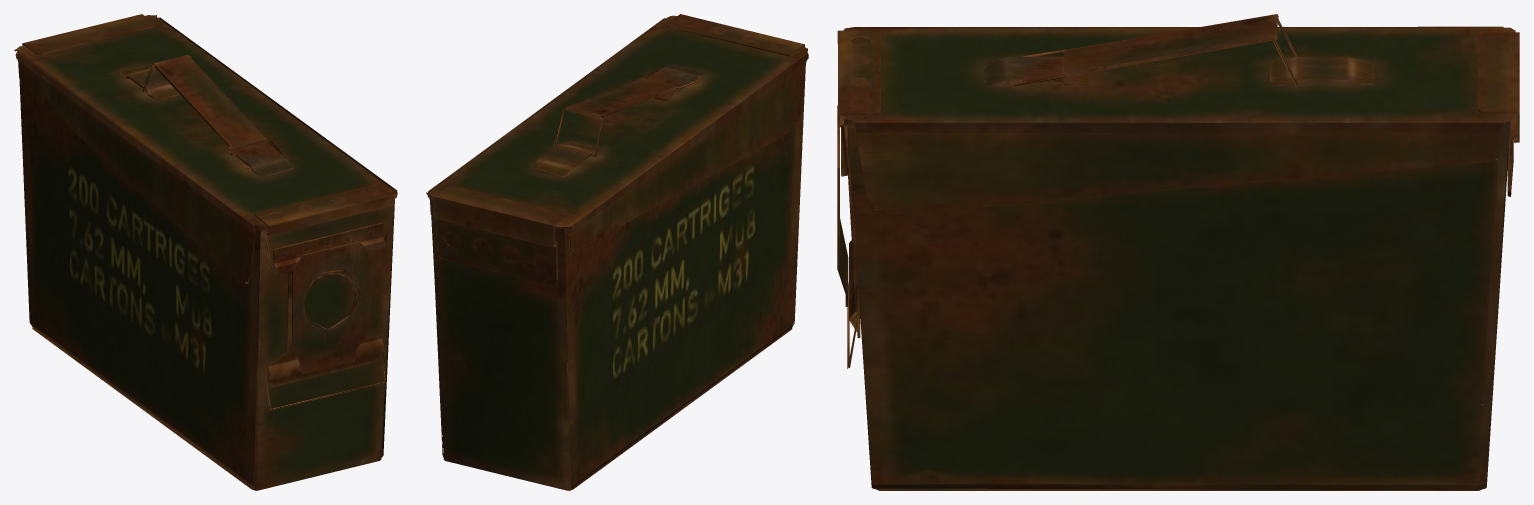
Rendered from ammo_box.gltf.
3 renders of one model, left to right at view 1: azimuth 30°, elevation 25°; view 2: azimuth 150°, elevation 25°; view 3: azimuth 270°, elevation 25°, orthographic. The views are drawn at different scales.
Visible parts, largest first — view 1: ammo_box; view 2: ammo_box; view 3: ammo_box.
Part boxes in pixels (left/top/right/bottom): ammo_box: left=14, top=14, right=397, bottom=490; ammo_box: left=426, top=14, right=808, bottom=490; ammo_box: left=837, top=14, right=1519, bottom=490.
Size of the model in its own units: 0.0865 by 0.1774 by 0.2577.
Materials: 1 (1 with a texture image).
